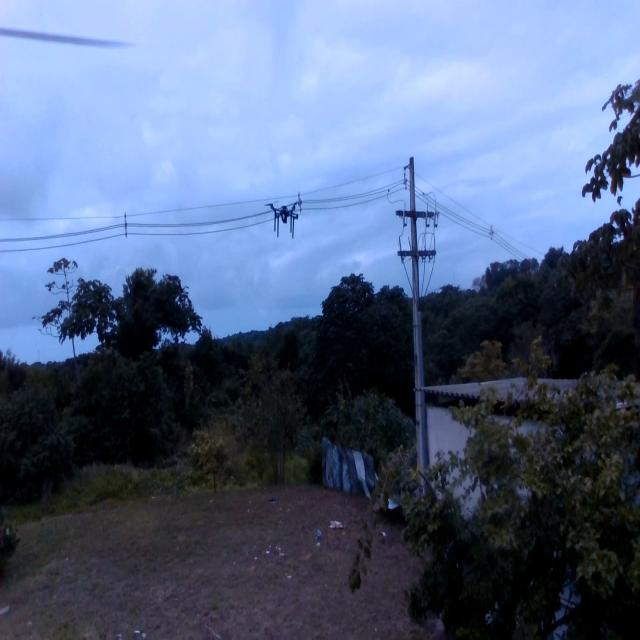-uav-: (261, 187, 310, 254)
